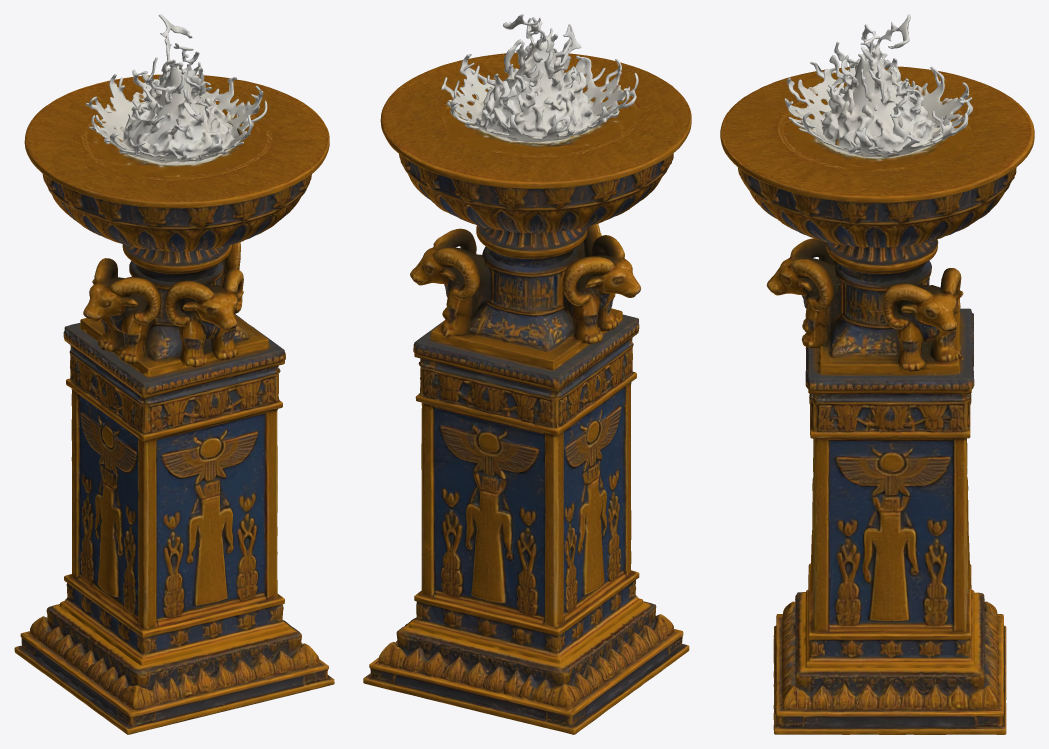
The model's file is المباخر.glb.
3 renders of one model, left to right at view 1: azimuth 30°, elevation 25°; view 2: azimuth 150°, elevation 25°; view 3: azimuth 270°, elevation 25°, orthographic. The views are drawn at different scales.
Visible parts, largest first — view 1: geometry_0; view 2: geometry_0; view 3: geometry_0.
Boxes of the visible parts, x1,y1,x2,y2 form: geometry_0: (14,14,334,734); geometry_0: (363,14,691,734); geometry_0: (720,14,1034,734).
Bounding box in the file's own units: 0.4251 × 1 × 0.4275.
Materials: 1 (1 with a texture image).
